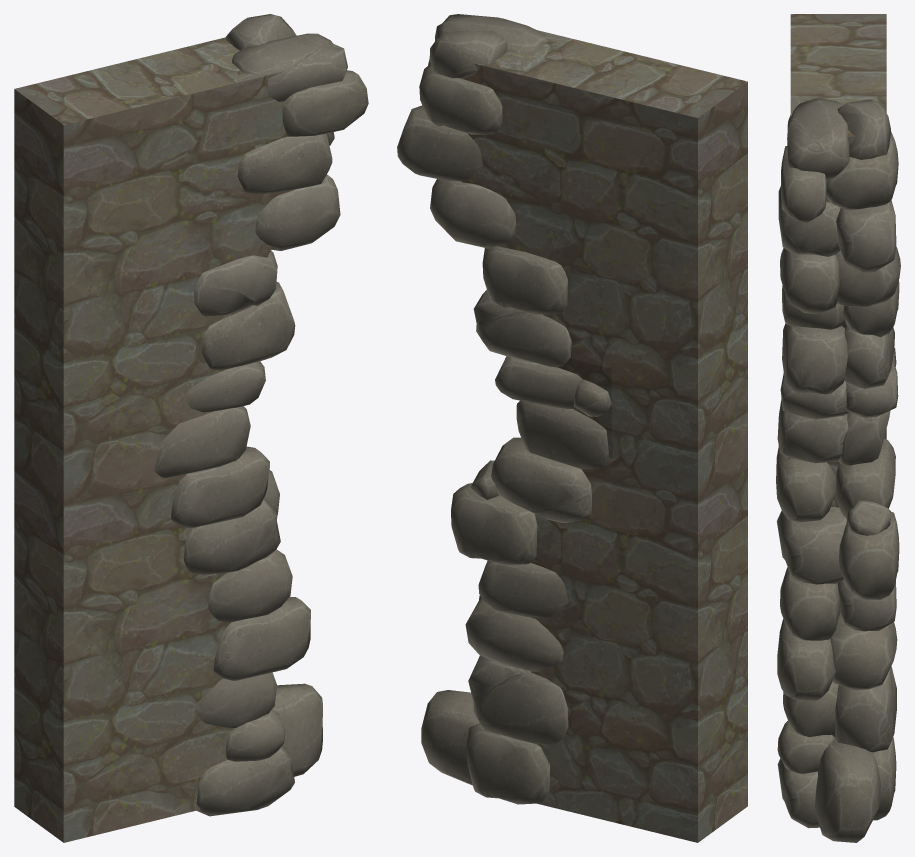
The model's file is SM_FW01_Ruins_Int_Wall_A_2x4_Brkn_R_01.fbx.
The picture shows the model from 3 angles, left to right: view 1: azimuth 30°, elevation 25°; view 2: azimuth 150°, elevation 25°; view 3: azimuth 270°, elevation 25°; orthographic projection. The views are drawn at different scales.
Visible parts, largest first — view 1: SM_FW01_Ruins_Int_Wall_A_2x4_Brkn_R_01, SM_FW01_Ruins_Int_Wall_A_2x4_Brkn_R_01_LOD0; view 2: SM_FW01_Ruins_Int_Wall_A_2x4_Brkn_R_01, SM_FW01_Ruins_Int_Wall_A_2x4_Brkn_R_01_LOD0; view 3: SM_FW01_Ruins_Int_Wall_A_2x4_Brkn_R_01_LOD0, SM_FW01_Ruins_Int_Wall_A_2x4_Brkn_R_01.
Boxes of the visible parts, box(x1,y1,x2,y2) form: SM_FW01_Ruins_Int_Wall_A_2x4_Brkn_R_01: box(14, 37, 328, 842); SM_FW01_Ruins_Int_Wall_A_2x4_Brkn_R_01_LOD0: box(154, 14, 368, 816); SM_FW01_Ruins_Int_Wall_A_2x4_Brkn_R_01: box(460, 30, 747, 842); SM_FW01_Ruins_Int_Wall_A_2x4_Brkn_R_01_LOD0: box(397, 14, 611, 804); SM_FW01_Ruins_Int_Wall_A_2x4_Brkn_R_01_LOD0: box(776, 98, 900, 842); SM_FW01_Ruins_Int_Wall_A_2x4_Brkn_R_01: box(788, 14, 886, 507).
Size of what is drawn, in the model's own units: 1.77 by 4.19 by 0.6522.
